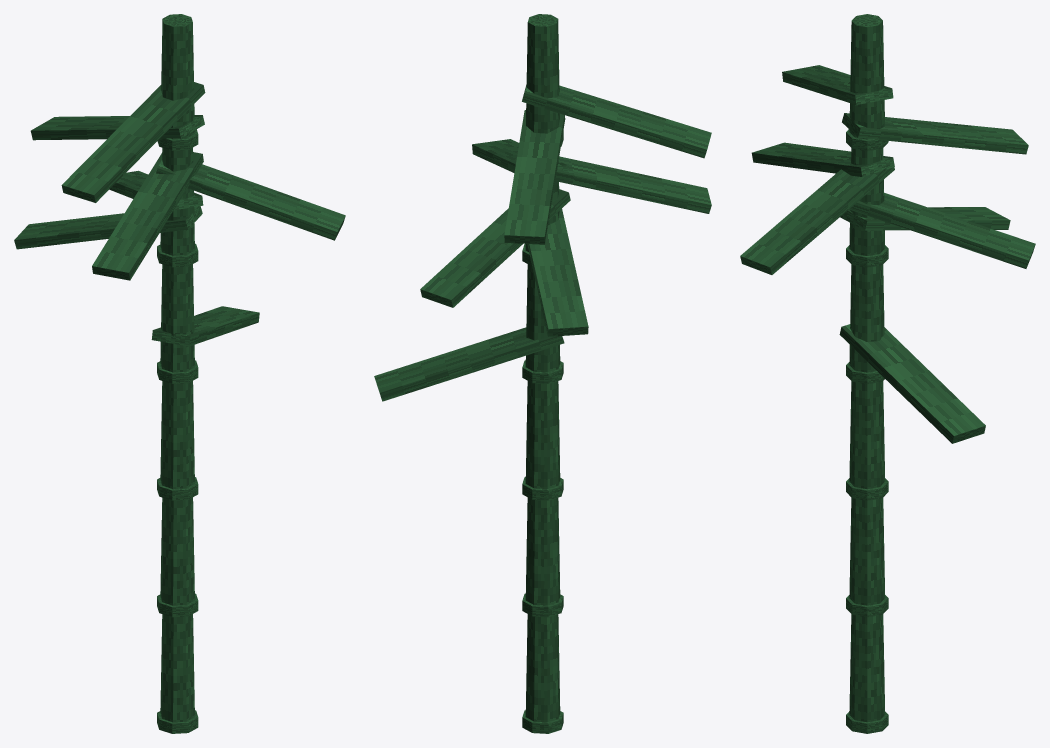
The model's file is bamboo_28.glb.
The picture shows the model from 3 angles, left to right: view 1: azimuth 30°, elevation 25°; view 2: azimuth 150°, elevation 25°; view 3: azimuth 270°, elevation 25°; orthographic projection.
Parts seen in each view (by area): view 1: Leaf.004, Leaf, Leaf.005, Stem.001, Stem, Stem.002, Stem.003, Stem.005, Leaf.002, Leaf.001, Leaf.006, Stem.004 (+6 smaller); view 2: Leaf.001, Leaf.004, Leaf.006, Leaf.002, Leaf.003, Leaf, Stem, Stem.001, Stem.002, Stem.005, Stem.003, Leaf.005 (+4 smaller); view 3: Leaf.006, Leaf.005, Leaf.003, Leaf.001, Stem.001, Stem, Stem.002, Stem.005, Stem.003, Leaf, Leaf.004, Stem.004 (+5 smaller).
Part boxes in pixels (x1=…): Leaf.004: x1=61, y1=82, x2=205, y2=202; Leaf: x1=92, y1=152, x2=203, y2=280; Leaf.005: x1=156, y1=160, x2=345, y2=240; Stem.001: x1=160, y1=497, x2=194, y2=605; Stem: x1=160, y1=614, x2=194, y2=722; Stem.002: x1=160, y1=381, x2=194, y2=488; Stem.003: x1=160, y1=264, x2=194, y2=372; Stem.005: x1=161, y1=14, x2=194, y2=139; Leaf.002: x1=14, y1=206, x2=202, y2=249; Leaf.001: x1=30, y1=115, x2=204, y2=140; Leaf.006: x1=151, y1=306, x2=259, y2=346; Stem.004: x1=160, y1=147, x2=194, y2=255; Leaf.001: x1=504, y1=110, x2=565, y2=244; Leaf.004: x1=522, y1=84, x2=711, y2=158; Leaf.006: x1=374, y1=327, x2=564, y2=401; Leaf.002: x1=527, y1=209, x2=588, y2=336; Leaf.003: x1=420, y1=189, x2=570, y2=307; Leaf: x1=555, y1=156, x2=711, y2=213; Stem: x1=525, y1=614, x2=560, y2=722; Stem.001: x1=525, y1=497, x2=560, y2=605; Stem.002: x1=525, y1=381, x2=560, y2=488; Stem.005: x1=526, y1=14, x2=559, y2=133; Stem.003: x1=525, y1=264, x2=560, y2=372; Leaf.005: x1=472, y1=139, x2=567, y2=172; Leaf.006: x1=839, y1=324, x2=985, y2=443; Leaf.005: x1=740, y1=167, x2=894, y2=274; Leaf.003: x1=849, y1=192, x2=1035, y2=268; Leaf.001: x1=842, y1=113, x2=1028, y2=154; Stem.001: x1=849, y1=498, x2=885, y2=605; Stem: x1=849, y1=614, x2=885, y2=722; Stem.002: x1=849, y1=381, x2=885, y2=489; Stem.005: x1=849, y1=14, x2=884, y2=139; Stem.003: x1=849, y1=264, x2=884, y2=372; Leaf: x1=751, y1=142, x2=894, y2=176; Leaf.004: x1=782, y1=65, x2=893, y2=104; Stem.004: x1=849, y1=148, x2=885, y2=255.
Bounding box in the file's own units: 1.36 × 3.45 × 1.31.
1 material, 1 textured.
